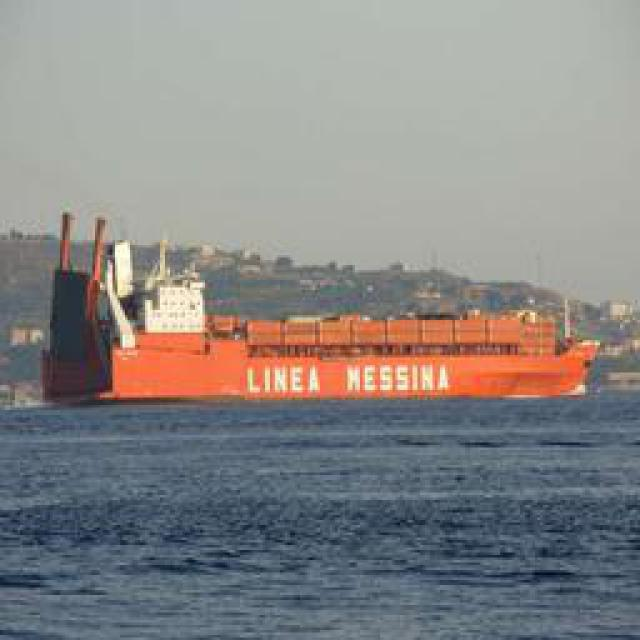Ship: (99, 315, 602, 405)
